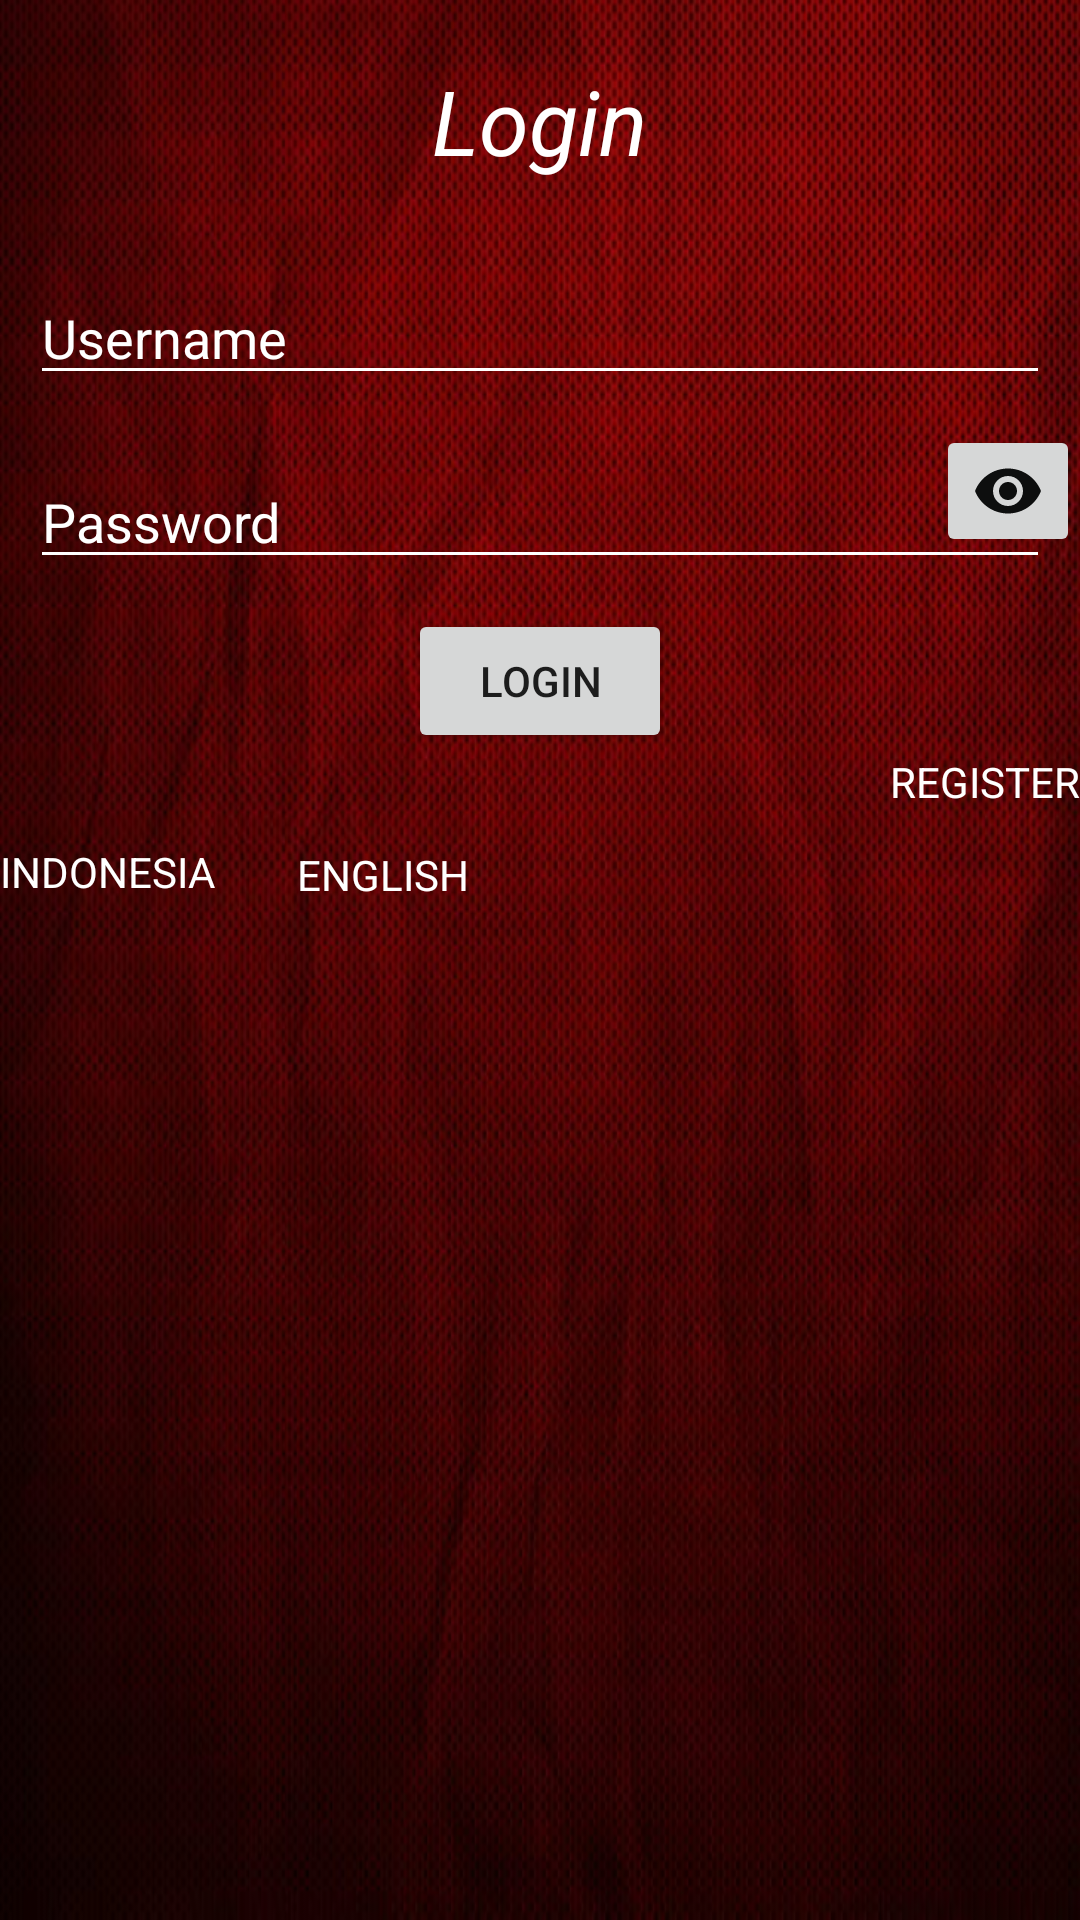

Icon bounding boxes for this 1080px×1920px phone screenshot, format [x1, y1, x2, y2]:
remove eye: [936, 425, 1080, 557]
